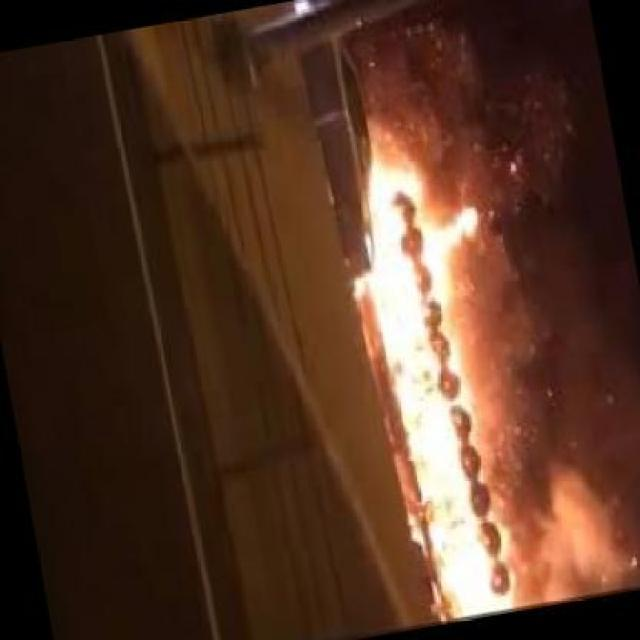Fire: (354, 140, 531, 623)
Smoke: (524, 138, 640, 583), (330, 34, 572, 141)
